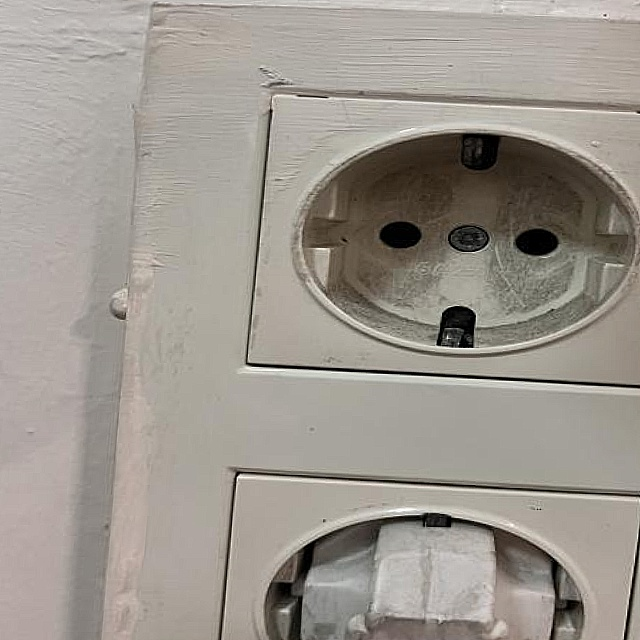pozidriv: (448, 225, 490, 252)
